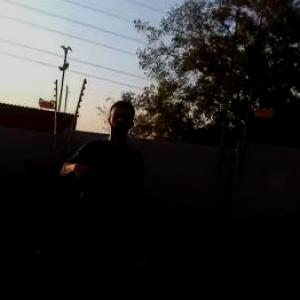follow: (51, 93, 154, 299)
